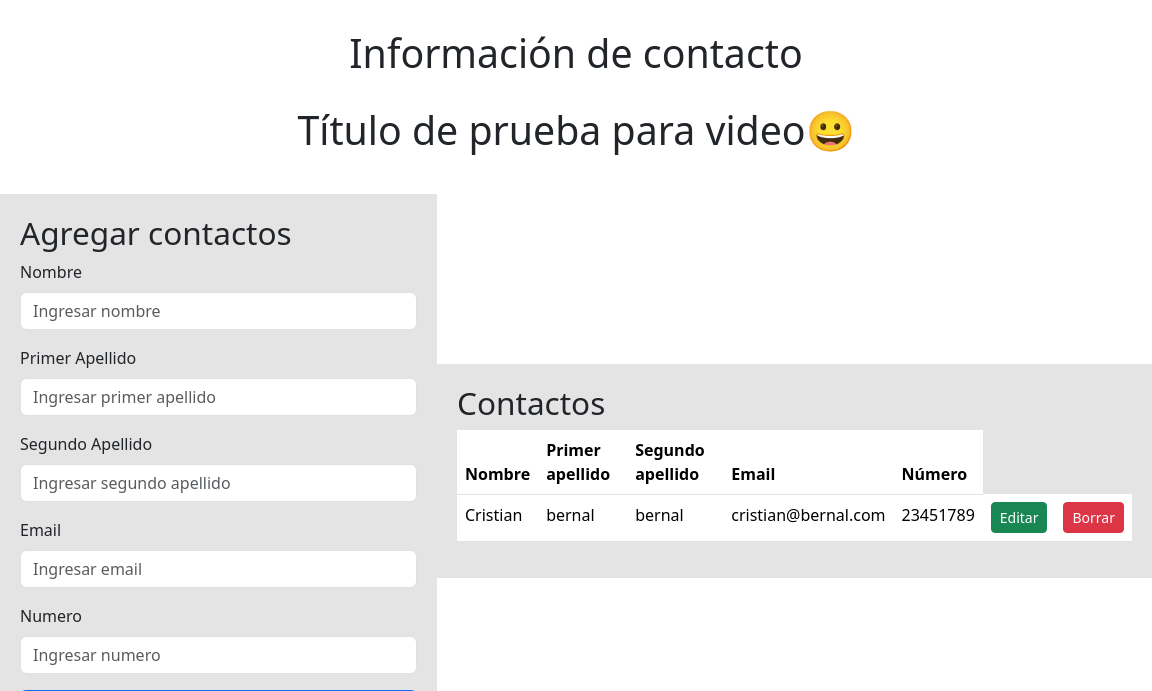
Test: pruebas de CRUD › se elimina contacto agregado y se verifica el LS vacio y que la tabla no se muestra
Note: Hacemos el click del boton
Click the button "Borrar": (1094, 518) [1064, 502, 1124, 533]
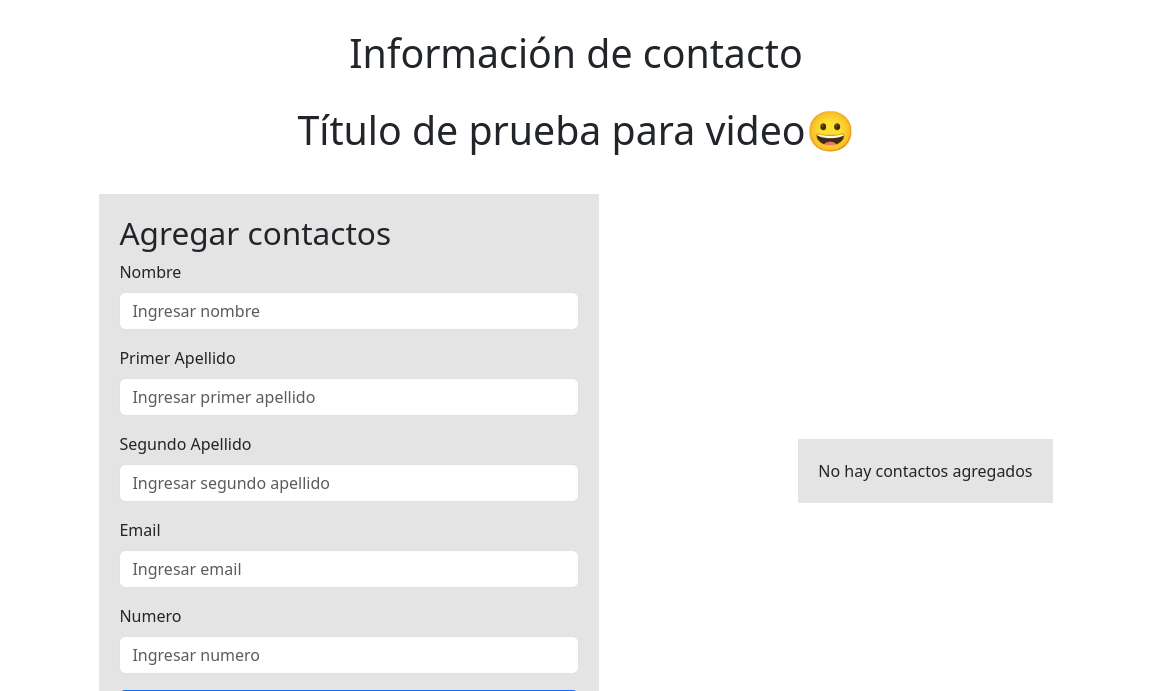
Expected: the table is gone
